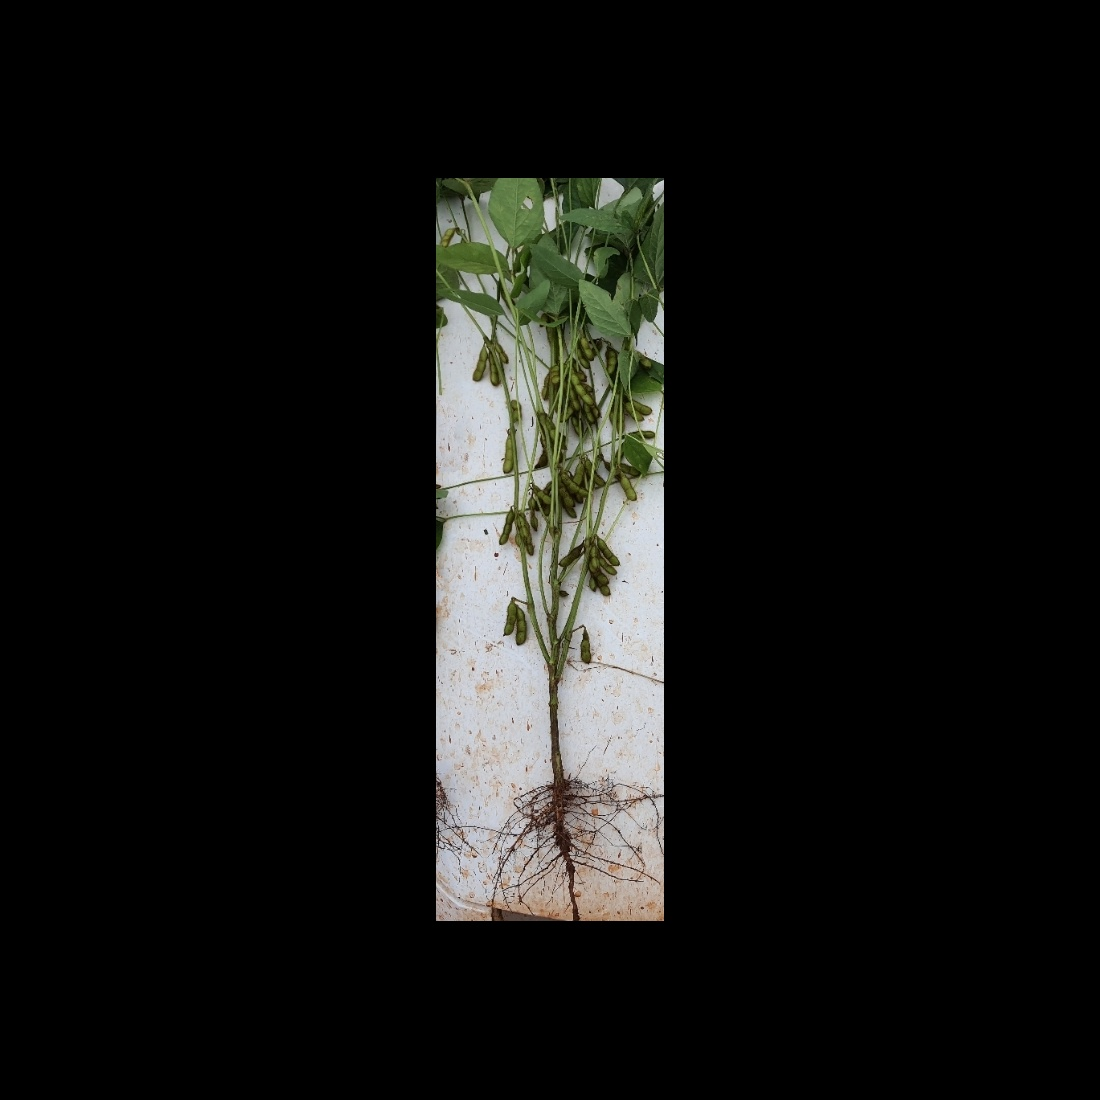pod: (569, 366, 597, 408), (591, 537, 624, 571), (556, 472, 594, 498), (496, 431, 517, 475), (555, 540, 587, 567), (592, 543, 617, 575), (498, 504, 516, 547), (469, 347, 488, 385), (514, 606, 529, 648), (578, 630, 596, 664), (578, 334, 595, 363)
soy: (441, 182, 655, 893)
